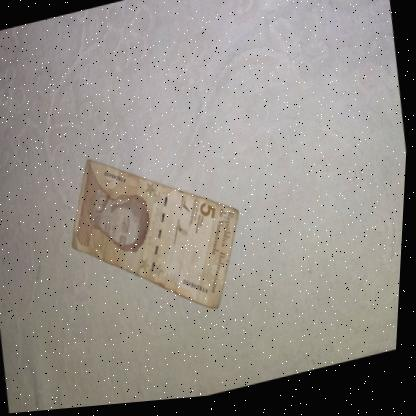five-front-vef: (57, 127, 258, 345)
